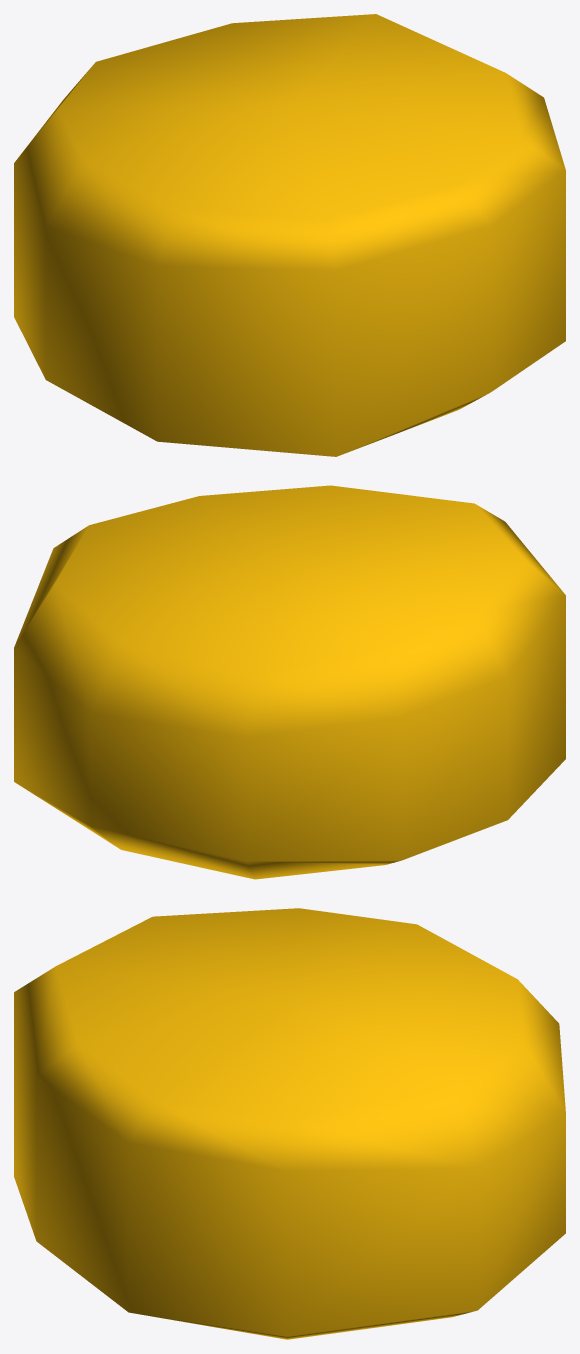
The model's file is Cheese_A.fbx.
3 views of the same model, one above another, from view 1: azimuth 30°, elevation 25°; view 2: azimuth 150°, elevation 25°; view 3: azimuth 270°, elevation 25° (orthographic). The views are drawn at different scales.
Visible parts, largest first — view 1: Cheese_A; view 2: Cheese_A; view 3: Cheese_A.
Boxes of the visible parts, x1,y1,x2,y2 form: Cheese_A: (14, 14, 565, 456); Cheese_A: (14, 485, 565, 879); Cheese_A: (14, 908, 565, 1339).
Size of the model in its own units: 31.8 by 14.84 by 31.15.
